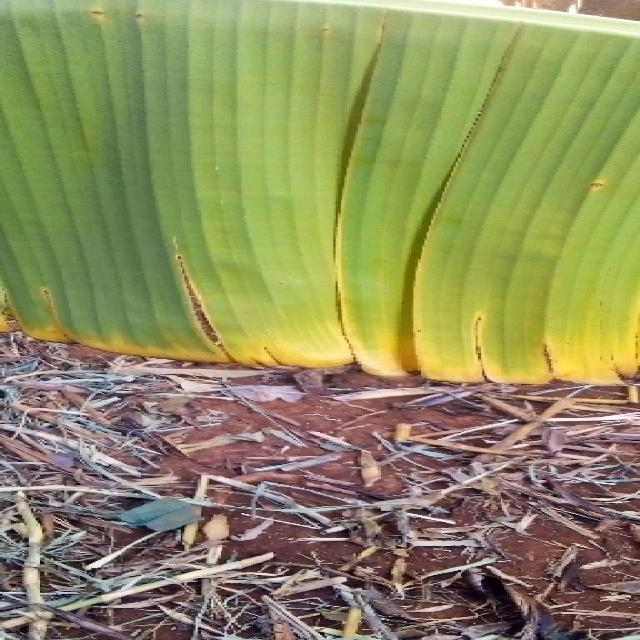Cordana: (0, 0, 640, 409)
